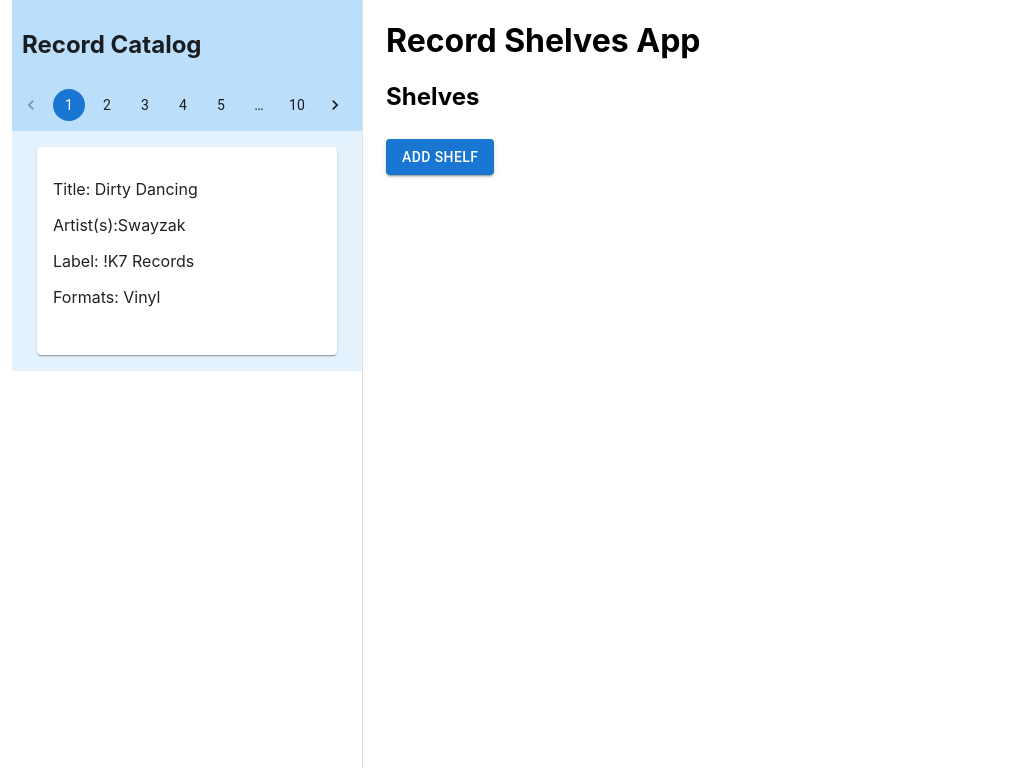
App › can add a record to a shelf
The width and height of the screenshot is (1036, 768).
Click the button "Add Shelf".
click(440, 157)  # box [386,139,494,175]
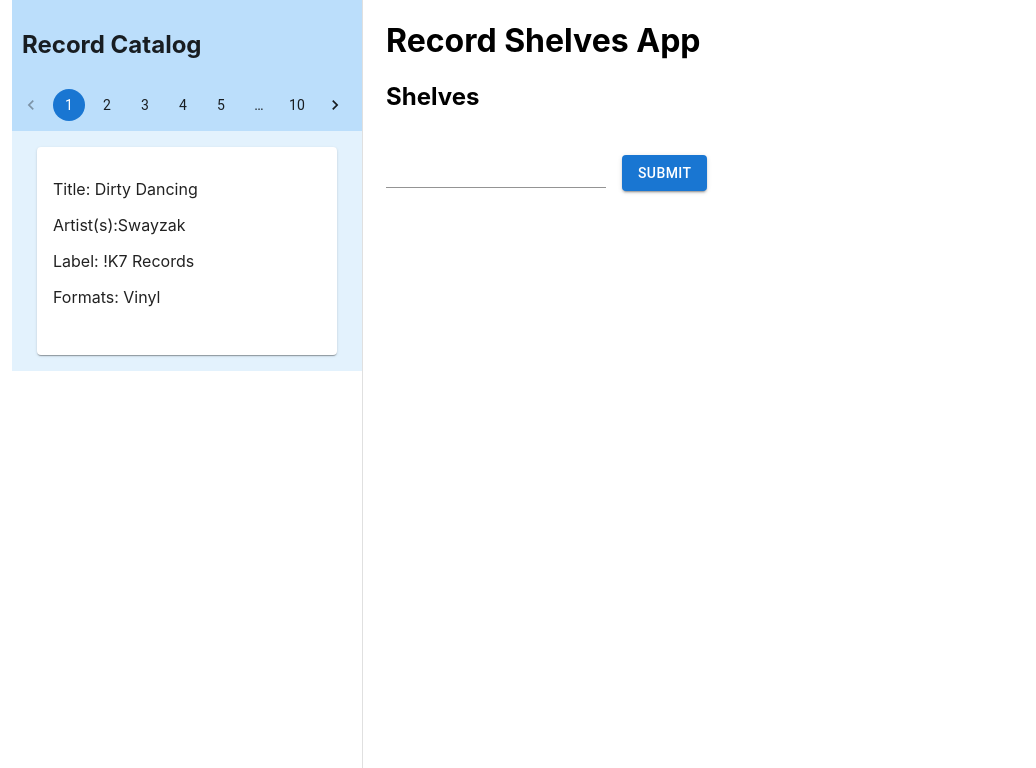
Type "first shelf" into the field with test id "add-shelf".
click(496, 172); type("first shelf")  # box [386,156,606,188]
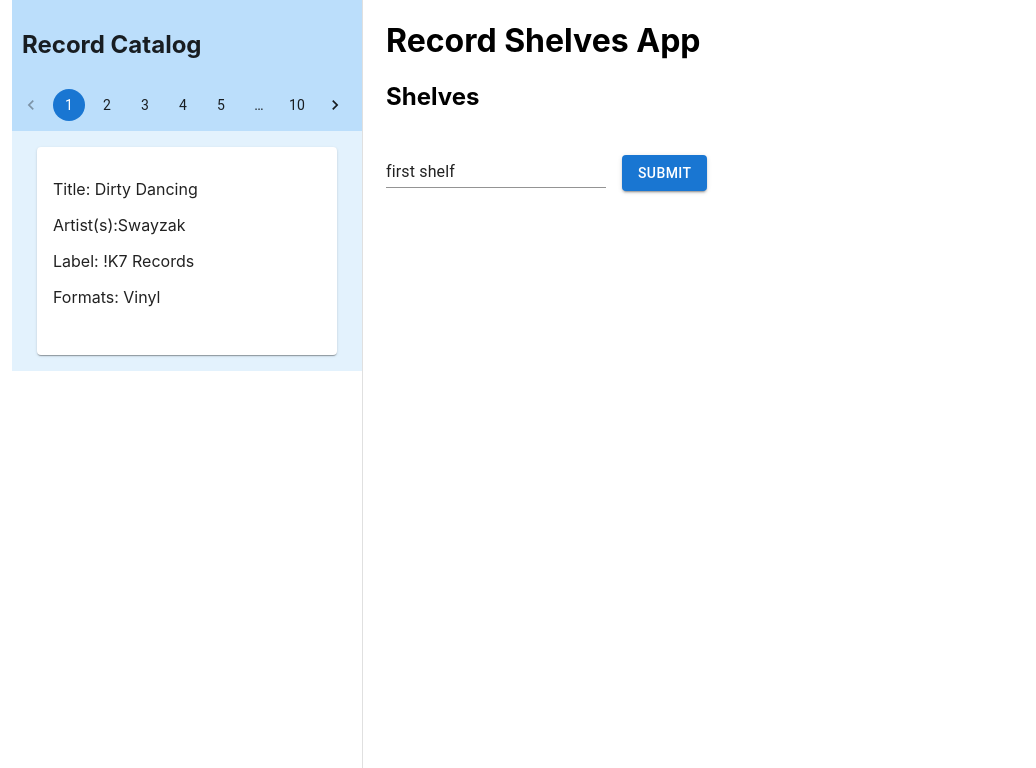
Click the button "Submit".
click(665, 173)  # box [622,155,707,191]
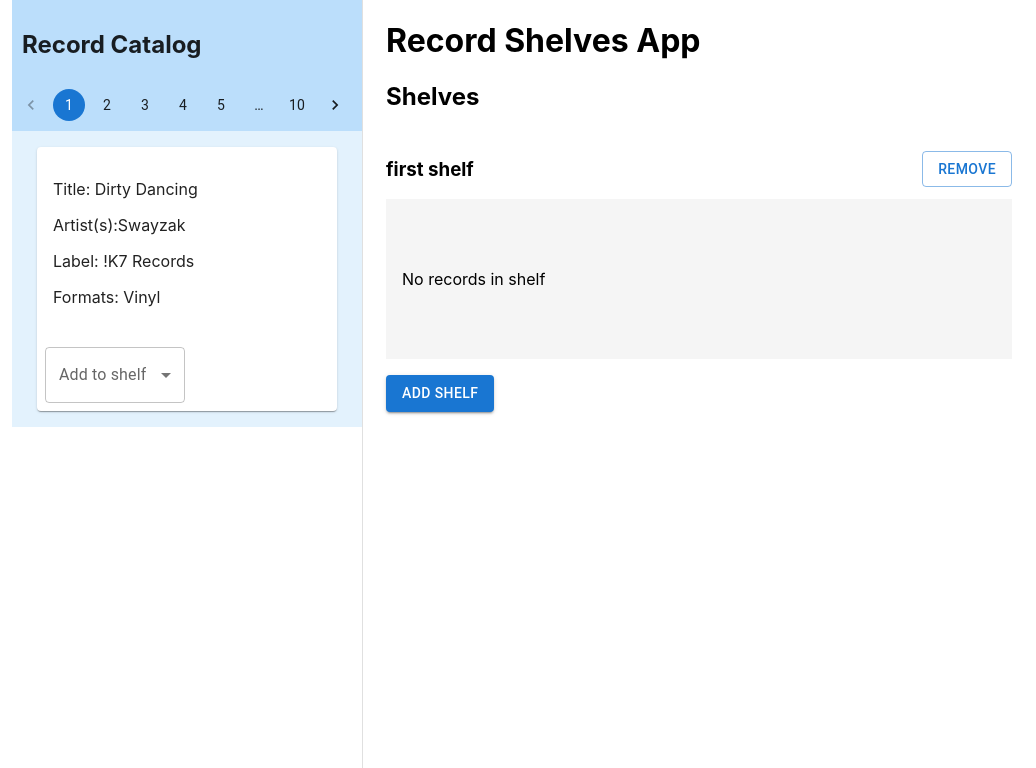
Press the mouse on the dropdown named "Add to shelf" at (115, 375), box [45,347,185,403]
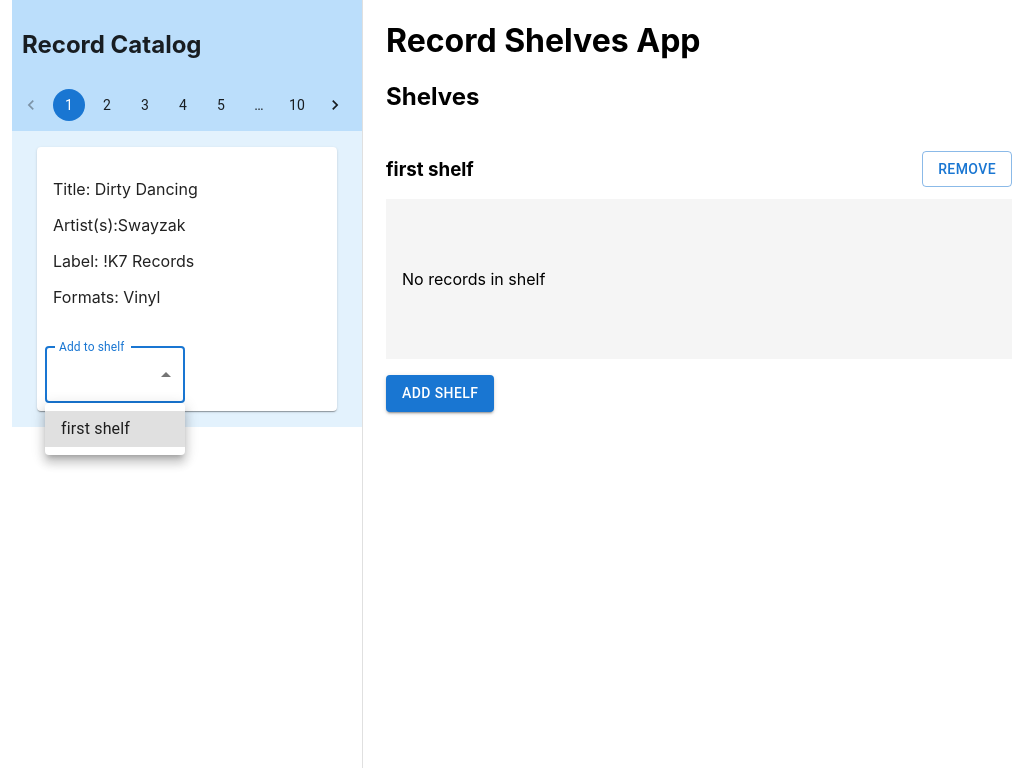
Click the option "first shelf".
click(115, 429)  # box [45,411,185,447]
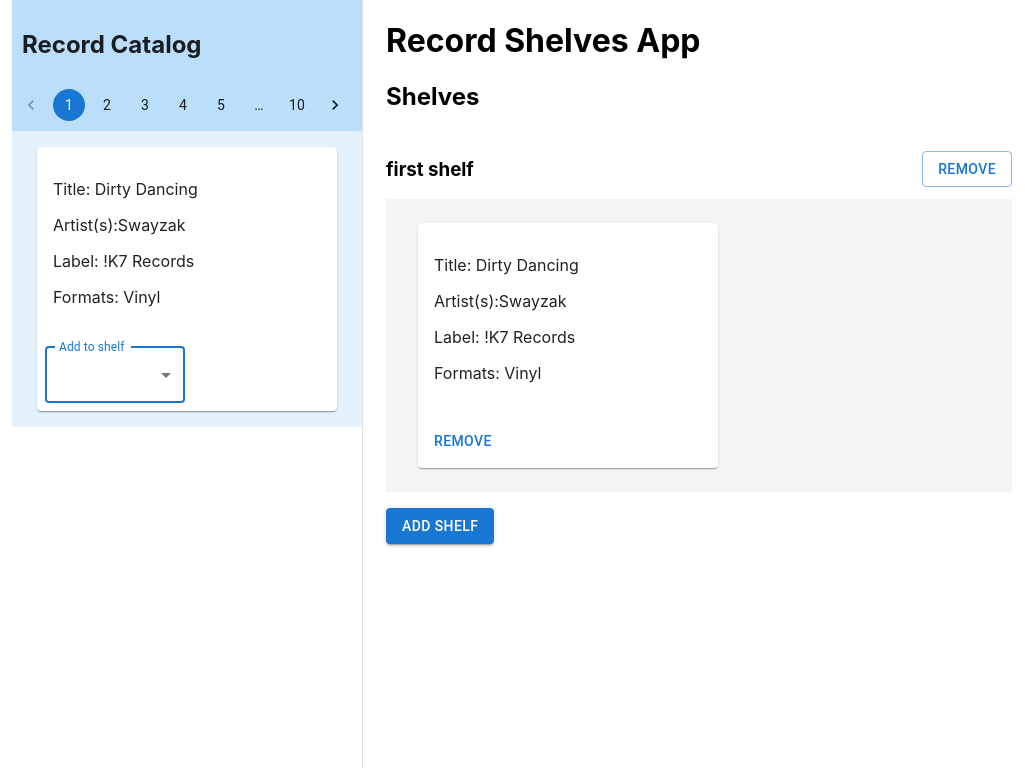
Check: the list with test id "shelf" shows "Dirty Dancing", box [476,255,579,275]
